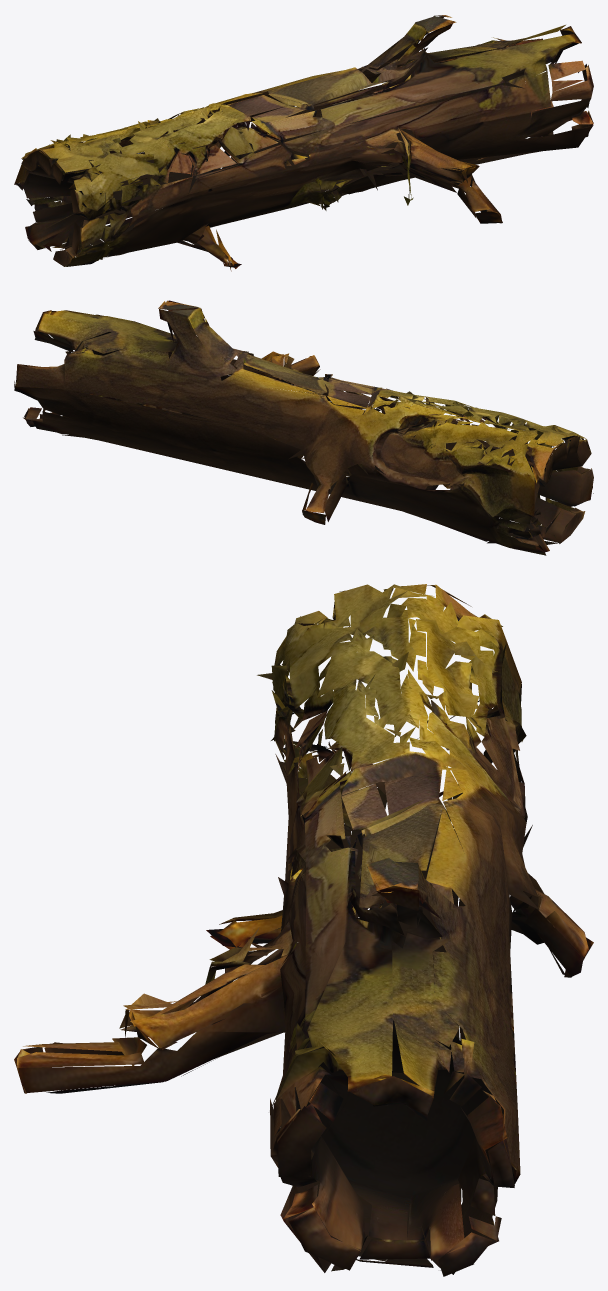
Rendered from mosslog.glb.
The picture shows the model from 3 angles, top to bottom: view 1: azimuth 30°, elevation 25°; view 2: azimuth 150°, elevation 25°; view 3: azimuth 270°, elevation 25°; orthographic projection. The views are drawn at different scales.
Visible parts, largest first — view 1: tripo_node_e13b272c; view 2: tripo_node_e13b272c; view 3: tripo_node_e13b272c.
Part boxes in pixels (x1,y1,x2,y2): tripo_node_e13b272c: (14, 15, 593, 271); tripo_node_e13b272c: (14, 300, 593, 555); tripo_node_e13b272c: (14, 584, 593, 1276).
Bounding box in the file's own units: 3.5 × 0.9966 × 1.7.
Materials: 1 (1 with a texture image).
